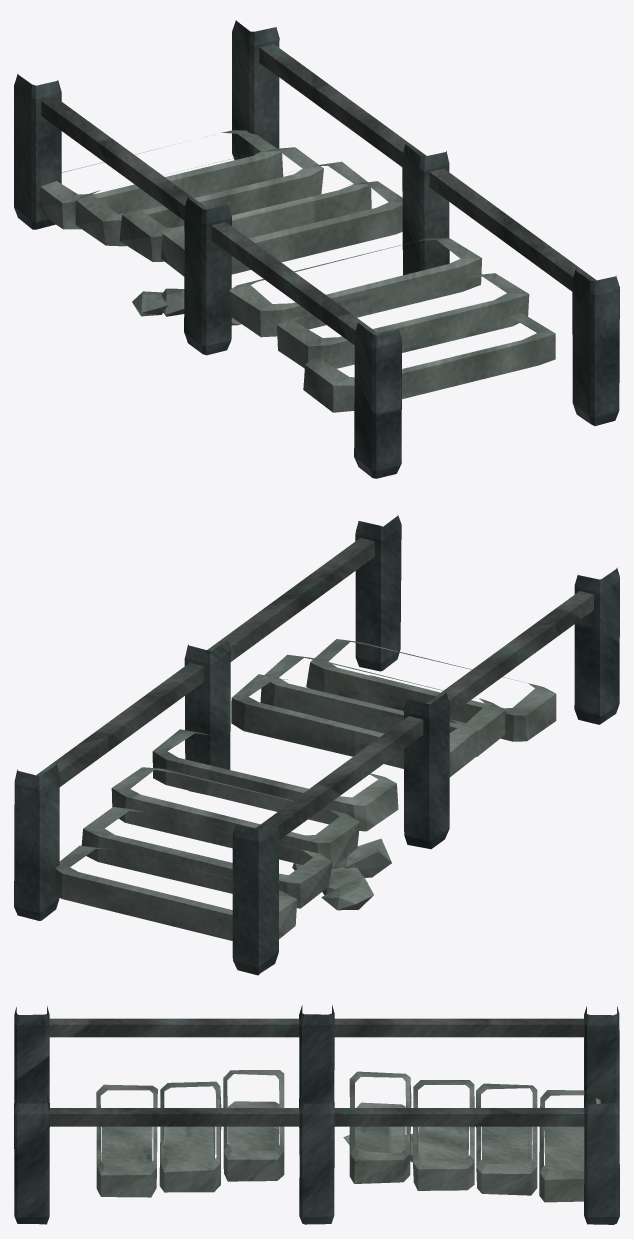
The model's file is 0400_ruined_bridge_25.glb.
3 views of the same model, one above another, from view 1: azimuth 30°, elevation 25°; view 2: azimuth 150°, elevation 25°; view 3: azimuth 270°, elevation 25° (orthographic). The views are drawn at different scales.
Visible parts, largest first — view 1: stone, stone_dark, iron; view 2: stone, stone_dark, iron; view 3: stone, stone_dark, iron.
Part boxes in pixels (bbox=[...]): stone: bbox=[39, 130, 555, 412]; stone_dark: bbox=[14, 20, 619, 478]; iron: bbox=[41, 44, 596, 344]; stone: bbox=[54, 639, 556, 940]; stone_dark: bbox=[14, 514, 619, 975]; iron: bbox=[36, 538, 593, 840]; stone: bbox=[96, 1070, 600, 1202]; stone_dark: bbox=[14, 1005, 619, 1224]; iron: bbox=[49, 1018, 584, 1126].
Size of the model in its own units: 1.71 by 1.09 by 4.31.
3 materials, 3 textured.
